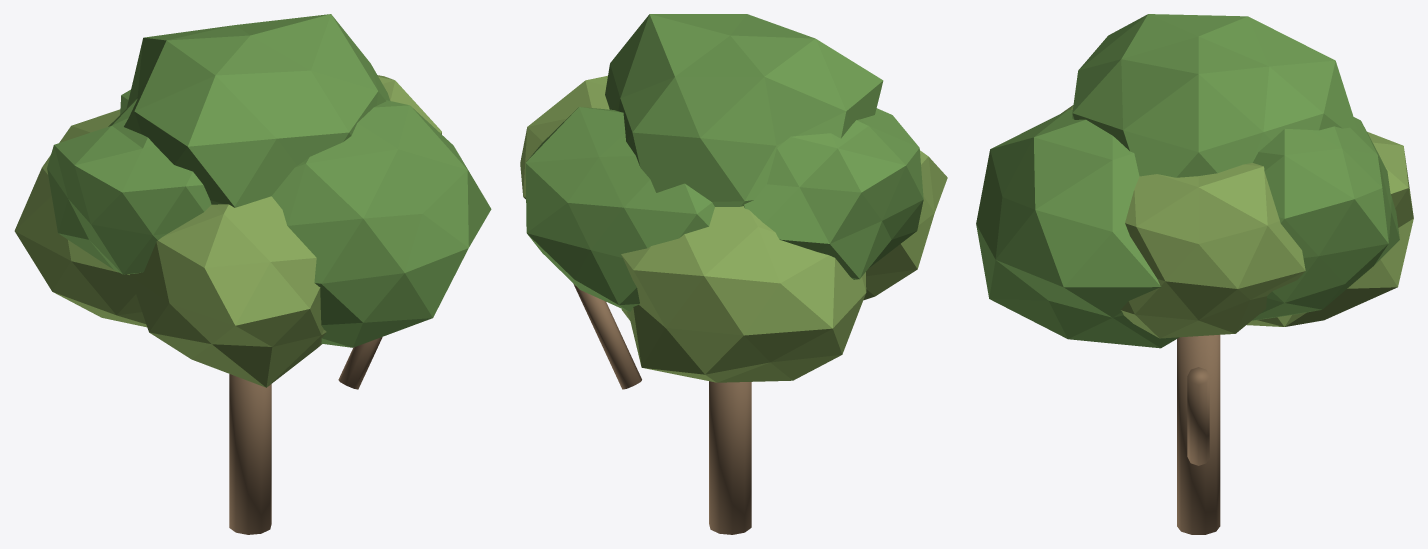
File: tree_oak.glb
3 renders of one model, left to right at view 1: azimuth 30°, elevation 25°; view 2: azimuth 150°, elevation 25°; view 3: azimuth 270°, elevation 25°, orthographic.
Parts seen in each view (by area): view 1: Tree.002; view 2: Tree.002; view 3: Tree.002.
Boxes of the visible parts, x1,y1,x2,y2 form: Tree.002: (14,14,491,534); Tree.002: (520,14,947,534); Tree.002: (976,14,1413,534).
Size of the model in its own units: 6.82 by 8.74 by 7.06.
